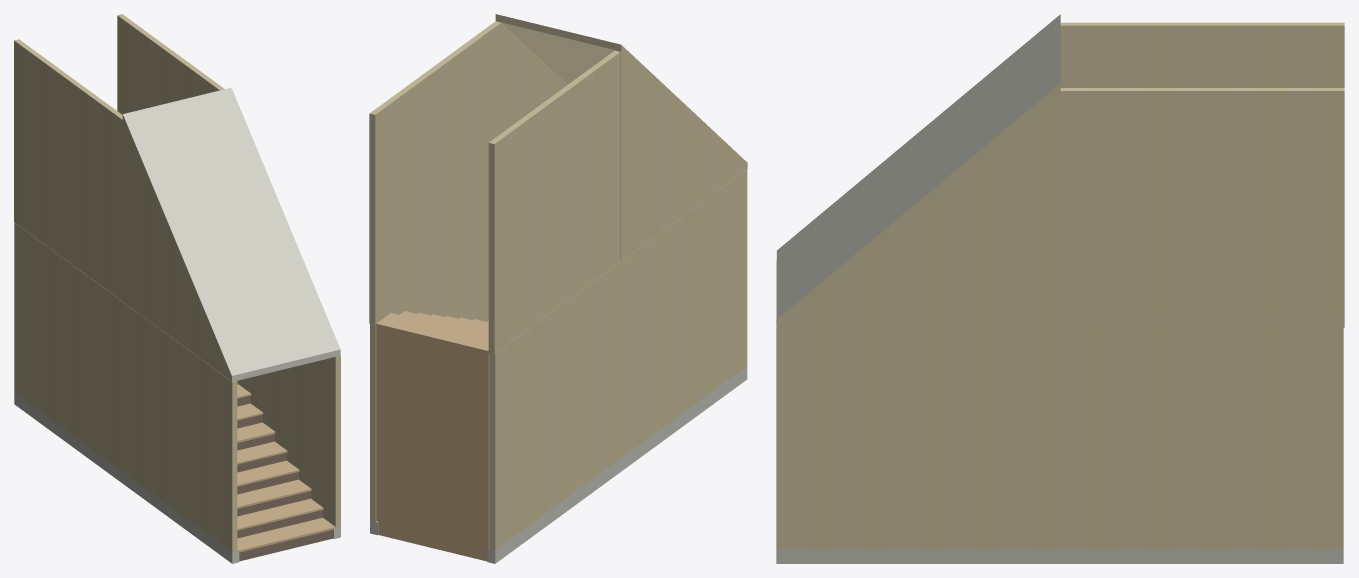
Rendered from InteriorWallStairsCombo_1.fbx.
The picture shows the model from 3 angles, left to right: view 1: azimuth 30°, elevation 25°; view 2: azimuth 150°, elevation 25°; view 3: azimuth 270°, elevation 25°; orthographic projection. The views are drawn at different scales.
Visible parts, largest first — view 1: InteriorWallStairsAngleCeiling, InteriorWall, InteriorWall_1S.001, InteriorWall.001, InteriorWall_1T, InteriorWall.002, InteriorStairs_1, InteriorWall_1S; view 2: InteriorWall_1S.001, InteriorWall.001, InteriorWall_1S, InteriorWall, InteriorStairs_1, InteriorWall_1T, InteriorWall.003, InteriorWallStairsAngleCeiling, InteriorWall_1T.001; view 3: InteriorWall_1S, InteriorWall.002, InteriorWall.003, InteriorWall_1T.001, InteriorWallStairsAngleCeiling, InteriorWall_1S.001.
Part boxes in pixels (x1,y1,x2,y2): InteriorWallStairsAngleCeiling: (122,87,340,381); InteriorWall: (123,302,239,563); InteriorWall_1S.001: (14,39,122,301); InteriorWall.001: (14,222,123,483); InteriorWall_1T: (123,121,231,380); InteriorWall.002: (238,355,340,538); InteriorStairs_1: (237,380,334,561); InteriorWall_1S: (117,14,224,114); InteriorWall_1S.001: (488,50,620,354); InteriorWall.001: (487,262,621,563); InteriorWall_1S: (369,21,501,324); InteriorWall: (621,169,747,471); InteriorStairs_1: (376,311,489,561); InteriorWall_1T: (615,50,746,261); InteriorWall.003: (370,242,488,535); InteriorWallStairsAngleCeiling: (495,14,747,169); InteriorWall_1T.001: (496,21,567,133); InteriorWall_1S: (1060,88,1344,327); InteriorWall.002: (776,324,1059,563); InteriorWall.003: (1060,327,1343,563); InteriorWall_1T.001: (777,91,1060,327); InteriorWallStairsAngleCeiling: (776,14,1060,326); InteriorWall_1S.001: (1060,22,1344,87).
Size of the model in its own units: 223 by 724 by 775.
